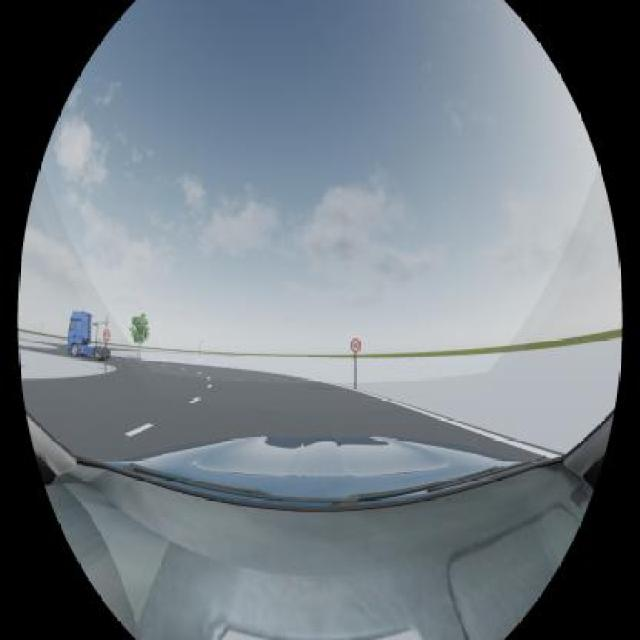forb_speed_over_80: (351, 338, 362, 353)
